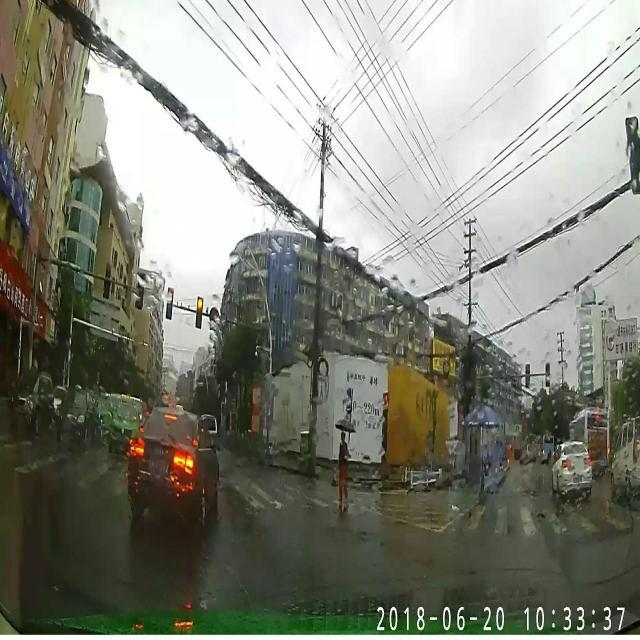car: (126, 408, 220, 524), (10, 367, 54, 432), (610, 418, 640, 498), (552, 440, 590, 498), (58, 389, 96, 442), (108, 401, 140, 453)
